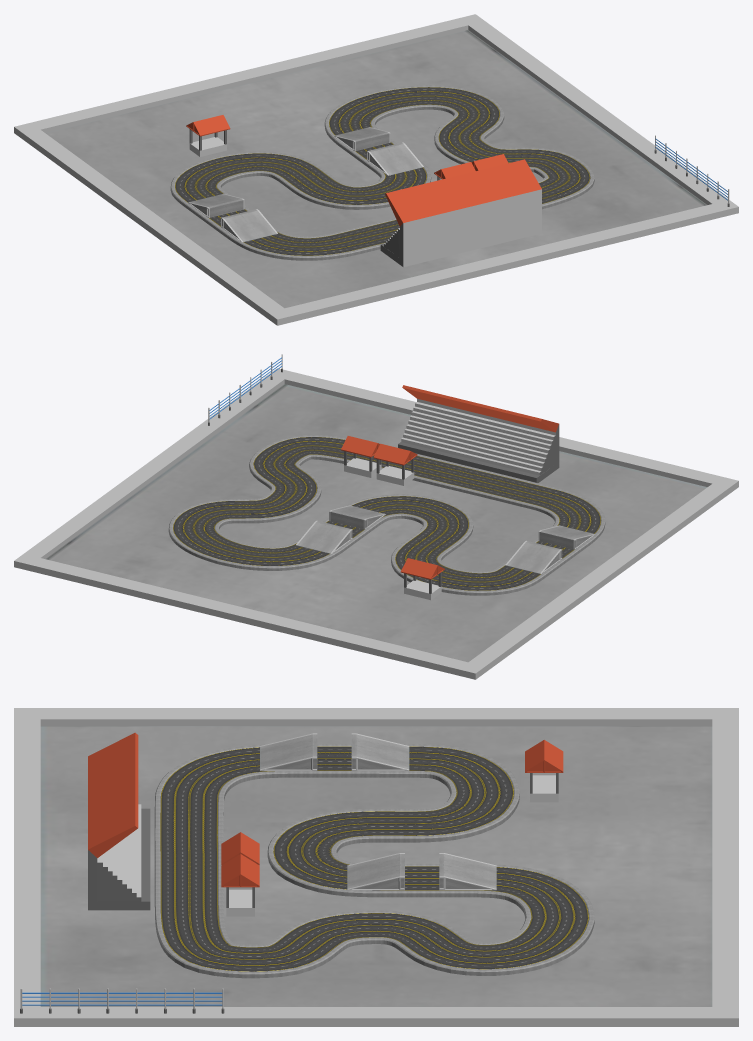
The model's file is Circuito-Vinilo-FullMesh.fbx.
The picture shows the model from 3 angles, top to bottom: view 1: azimuth 30°, elevation 25°; view 2: azimuth 150°, elevation 25°; view 3: azimuth 270°, elevation 25°; orthographic projection. The views are drawn at different scales.
Visible parts, largest first — view 1: Cube.008, Plane, Cube, Cube.003, Cube.007, Cube.004, Cube.006, Cube.005; view 2: Cube.008, Plane, Cube, Cube.002, Cube.003, Cube.006, Cube.005, Cube.001, Cube.007, Cube.004; view 3: Cube.008, Plane, Cube, Cube.001, Cube.003, Cube.005, Cube.006, Cube.004, Cube.007, Cube.002.
Boxes of the visible parts, x1,y1,x2,y2 form: Cube.008: (14,14,738,325); Plane: (170,85,594,260); Cube: (380,159,541,267); Cube.003: (186,115,230,156); Cube.007: (221,209,277,242); Cube.004: (367,142,423,175); Cube.006: (188,193,244,217); Cube.005: (334,127,390,151); Cube.008: (14,368,738,679); Plane: (168,435,605,595); Cube: (398,385,559,482); Cube.002: (373,443,417,485); Cube.003: (400,558,444,600); Cube.006: (505,540,562,573); Cube.005: (296,520,352,553); Cube.001: (341,436,381,477); Cube.007: (538,525,595,549); Cube.004: (329,505,385,529); Cube.008: (14,708,738,1026); Plane: (154,744,594,978); Cube: (88,732,150,910); Cube.001: (221,854,259,916); Cube.003: (525,740,563,802); Cube.005: (439,853,496,890); Cube.006: (351,733,409,770); Cube.004: (347,853,404,890); Cube.007: (260,733,317,770); Cube.002: (221,832,259,889).
Size of the model in its own units: 15298 by 1999 by 15115.
